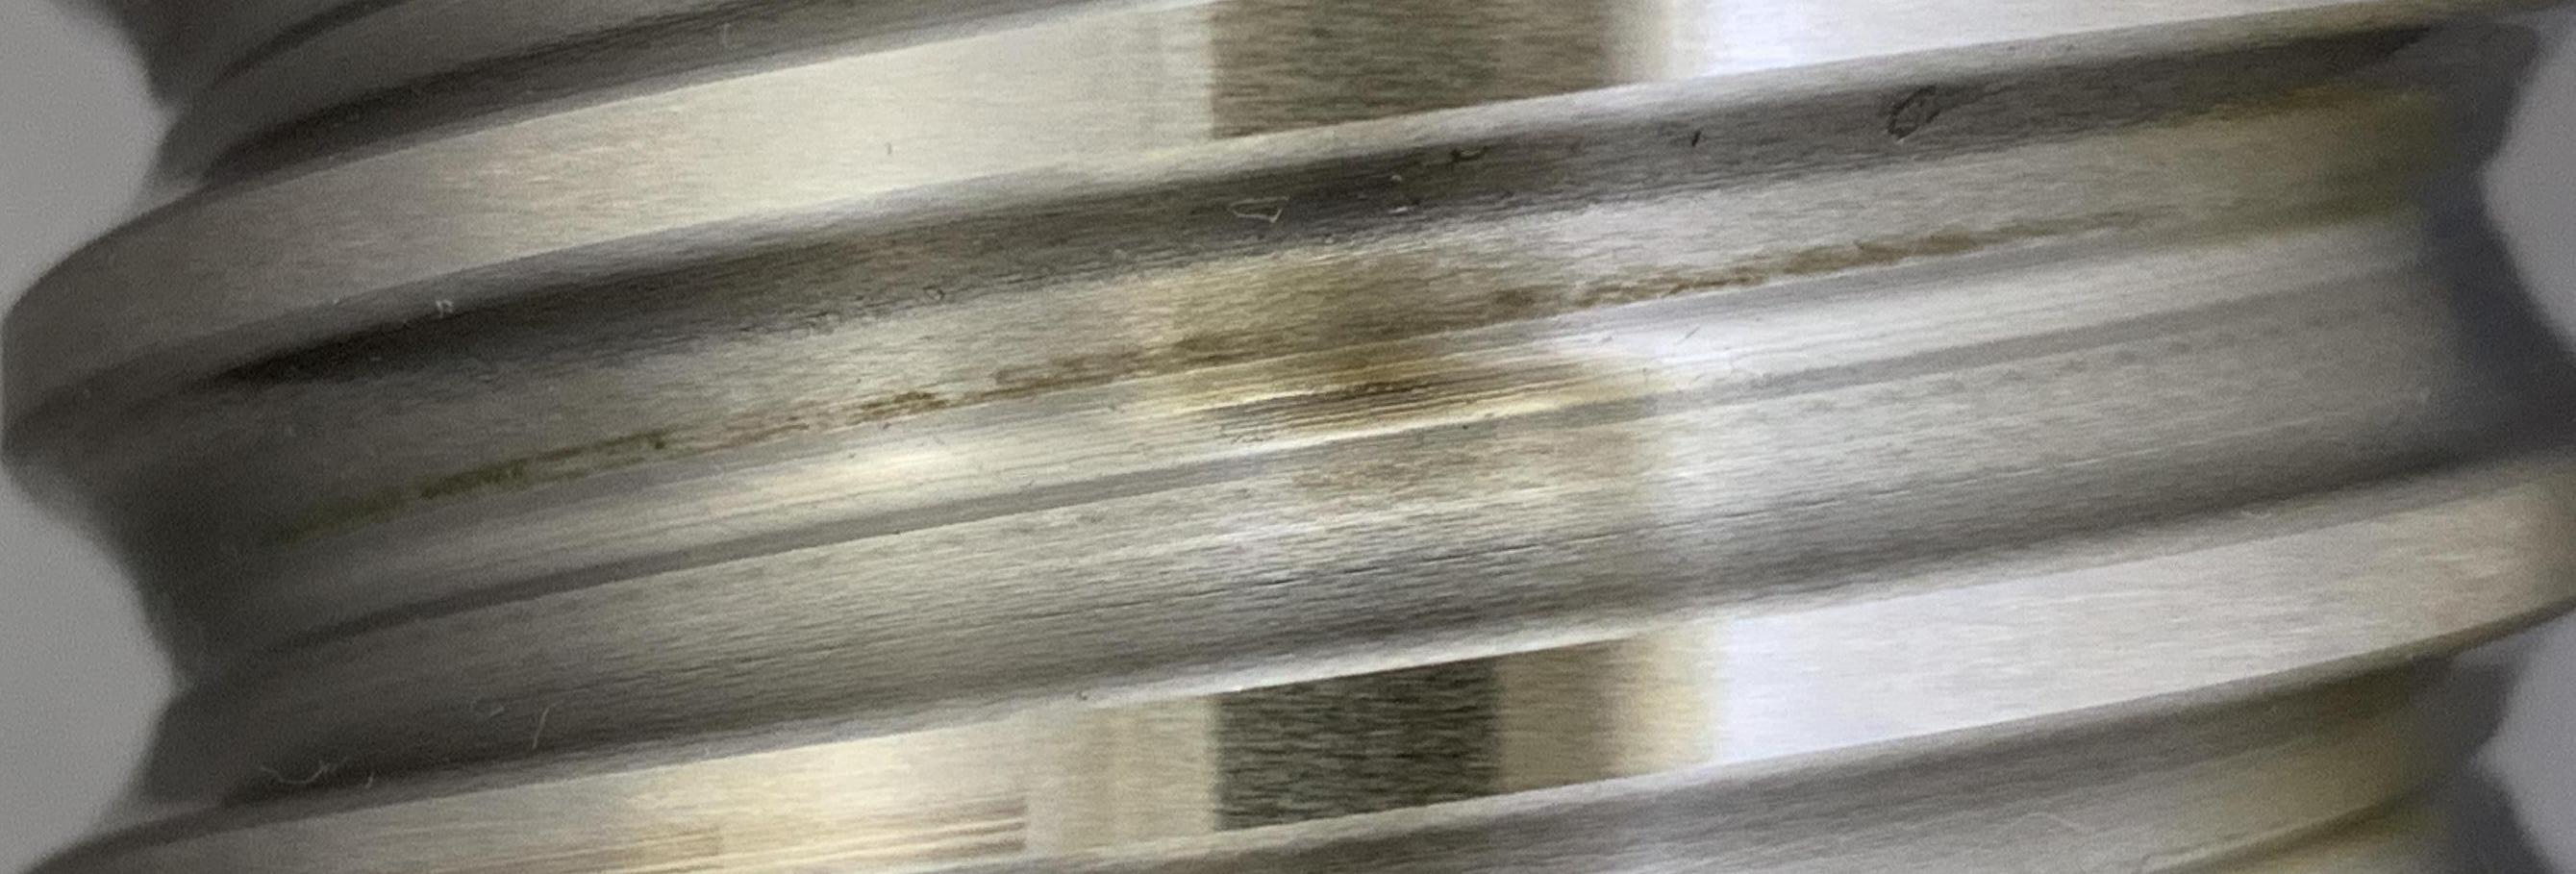pitting: (1879, 85, 1942, 143)
